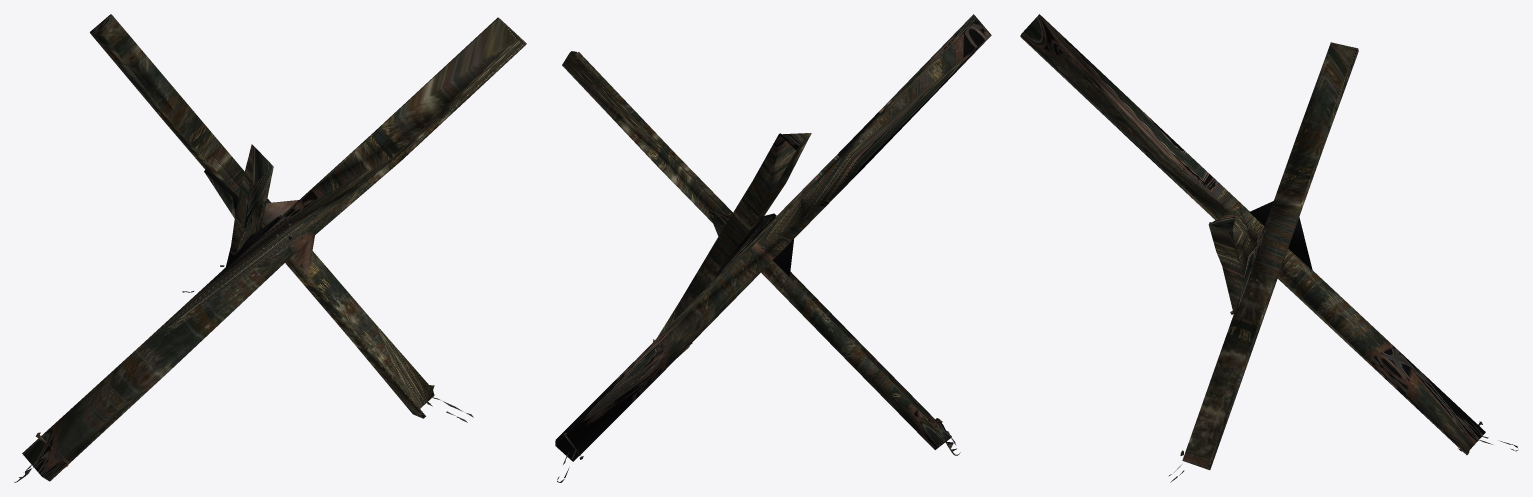
Rendered from hedgehog.glb.
3 views of the same model, side by side, from view 1: azimuth 30°, elevation 25°; view 2: azimuth 150°, elevation 25°; view 3: azimuth 270°, elevation 25° (orthographic). The views are drawn at different scales.
Visible parts, largest first — view 1: XI_WDS_hedgehog.Shape; view 2: XI_WDS_hedgehog.Shape; view 3: XI_WDS_hedgehog.Shape.
Boxes of the visible parts, x1,y1,x2,y2 form: XI_WDS_hedgehog.Shape: (14,14,526,482); XI_WDS_hedgehog.Shape: (555,14,991,482); XI_WDS_hedgehog.Shape: (1020,14,1517,482).
Size of the model in its own units: 1.87 by 1.48 by 1.93.
1 material, 1 textured.
